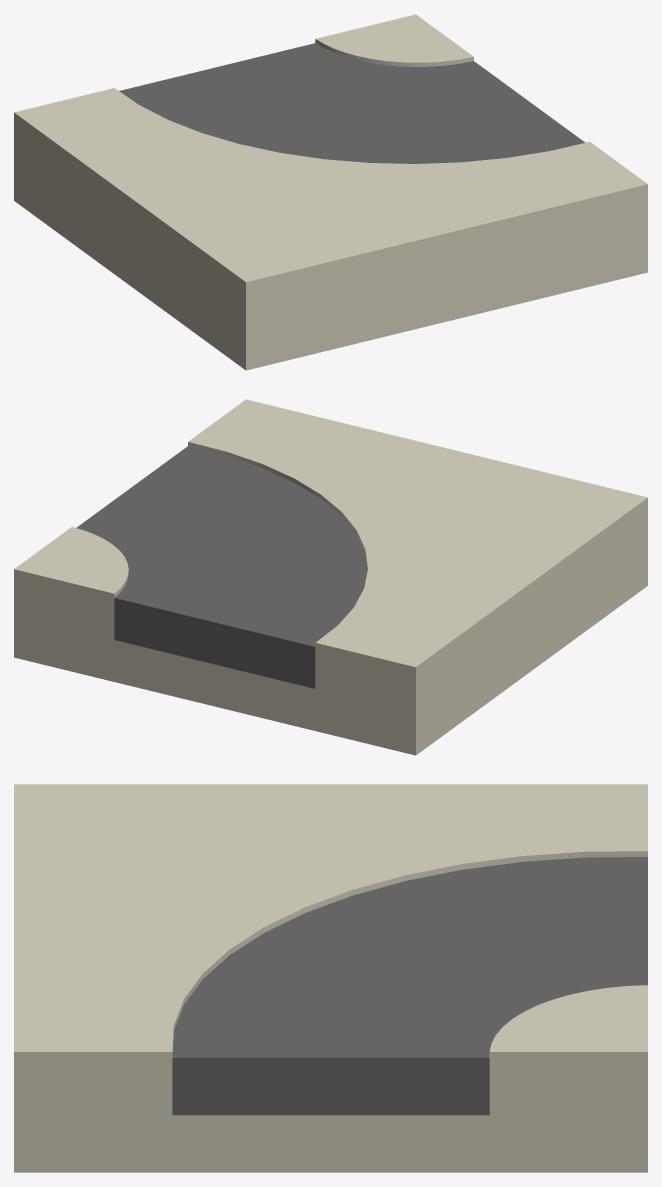
File: roadTile_290.fbx
The picture shows the model from 3 angles, top to bottom: view 1: azimuth 30°, elevation 25°; view 2: azimuth 150°, elevation 25°; view 3: azimuth 270°, elevation 25°; orthographic projection. The views are drawn at different scales.
Visible parts, largest first — view 1: roadTile_290; view 2: roadTile_290; view 3: roadTile_290.
Part boxes in pixels (left/top/right/bottom): roadTile_290: left=14, top=14, right=647, bottom=370; roadTile_290: left=14, top=399, right=647, bottom=755; roadTile_290: left=14, top=784, right=647, bottom=1172.
Size of the model in its own units: 118 by 24.8 by 118.
